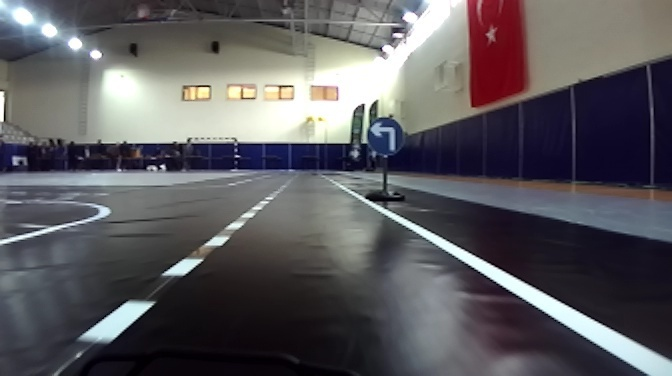sola_donus: (363, 117, 404, 156)
